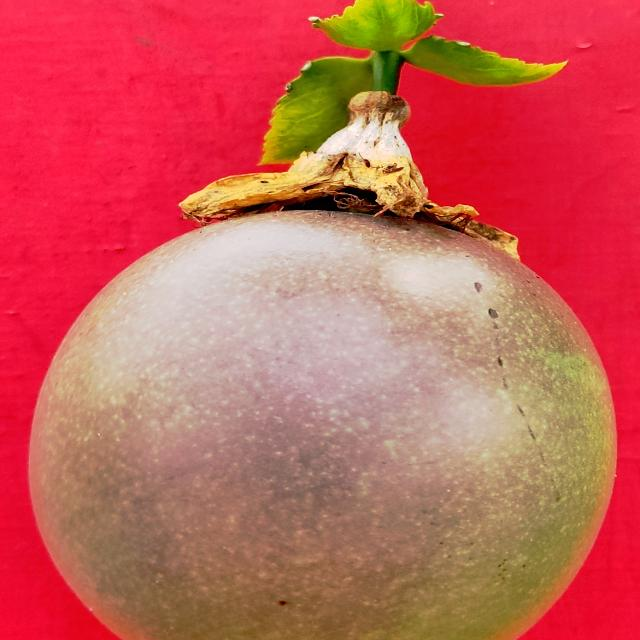Estado-4: (31, 57, 613, 640)
